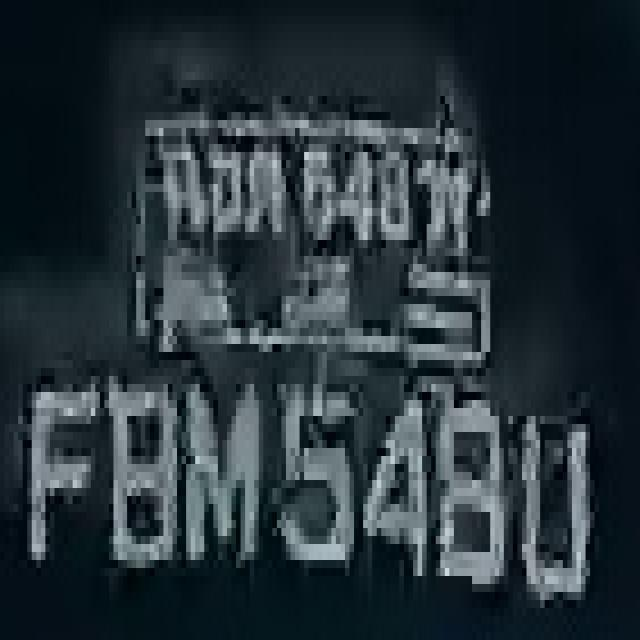4: (363, 360, 436, 592)
5: (268, 376, 363, 584)
8: (432, 376, 508, 616)
B: (95, 352, 177, 584)
F: (18, 368, 95, 584)
M: (172, 368, 258, 584)
U: (508, 376, 600, 624)
